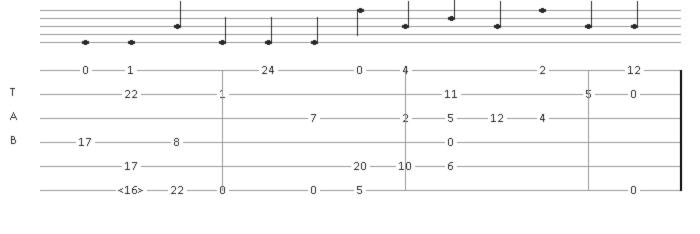0: (82, 64, 93, 76), (219, 184, 230, 196), (310, 184, 321, 196), (356, 64, 367, 76), (447, 136, 458, 148), (630, 88, 641, 100), (630, 184, 641, 196)
1: (127, 64, 138, 76), (219, 88, 230, 100)
10: (398, 160, 416, 172)
11: (444, 88, 462, 100)
12: (490, 112, 508, 124), (627, 64, 645, 76)
17: (78, 136, 96, 148), (124, 160, 142, 172)
2: (402, 112, 413, 124), (539, 64, 550, 76)
20: (353, 160, 371, 172)
22: (124, 88, 142, 100), (170, 184, 188, 196)
24: (261, 64, 279, 76)
4: (402, 64, 413, 76), (539, 112, 550, 124)
5: (356, 184, 367, 196), (447, 112, 458, 124), (585, 88, 596, 100)
6: (447, 160, 458, 172)
7: (310, 112, 321, 124)
8: (173, 136, 184, 148)
harmonic: (118, 184, 148, 196)
